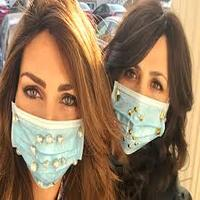flu mask: (7, 101, 86, 184), (108, 81, 171, 160)
